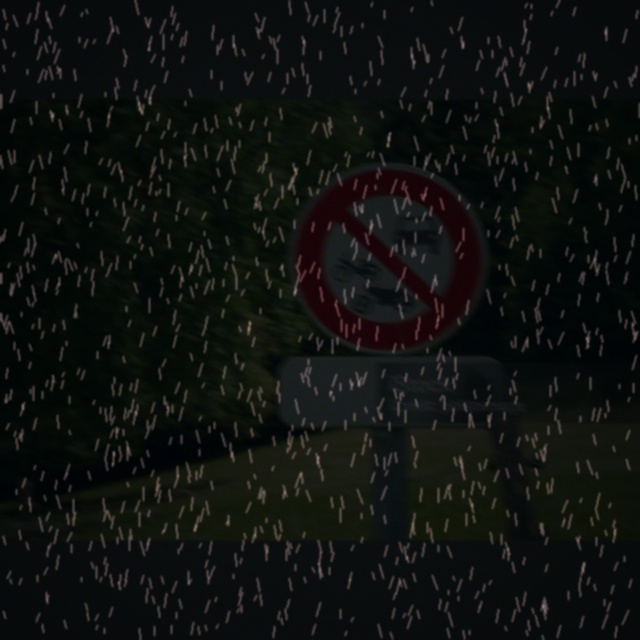All_Motor_Vehicles_Prohibited: (289, 161, 483, 355)
